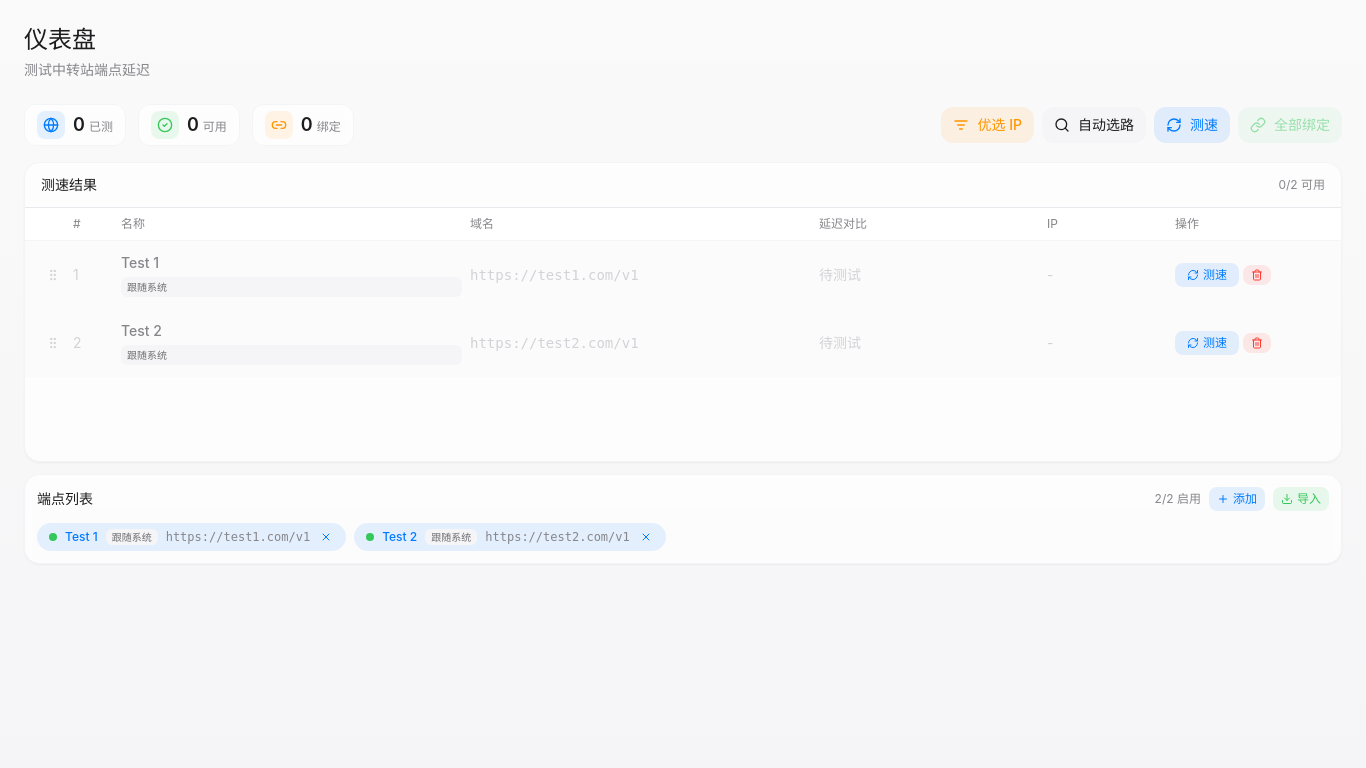
Test case: Dashboard › auto routes endpoints when clicking 自动选路 button
Click the button "自动选路" at (1094, 125), box [1042,107,1146,143]
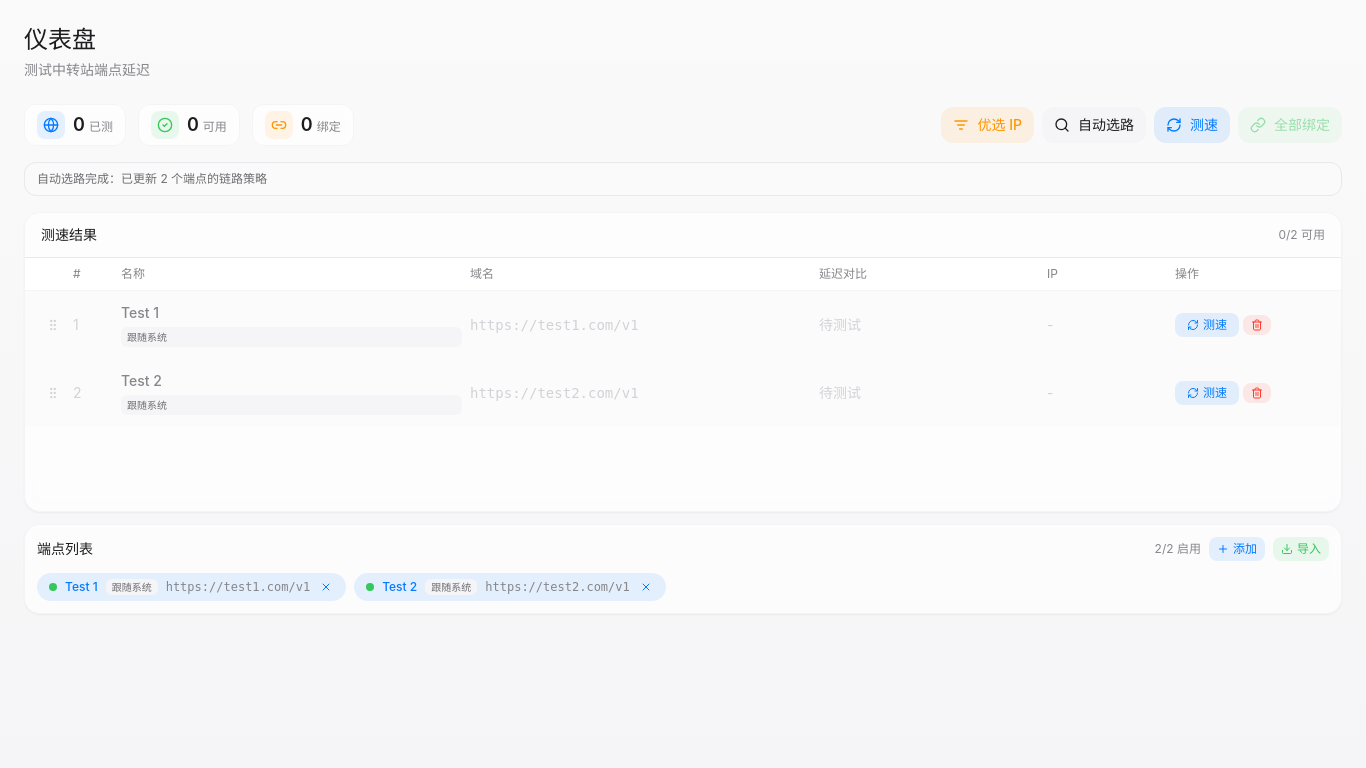
Expected: the text "自动选路完成：已更新 2 个端点的链路策略" is shown, [24,162,1342,196]
